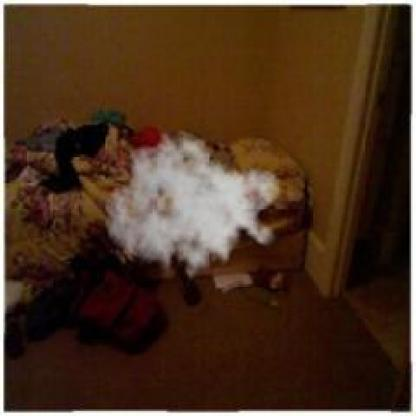Smoke: (104, 128, 283, 288)
